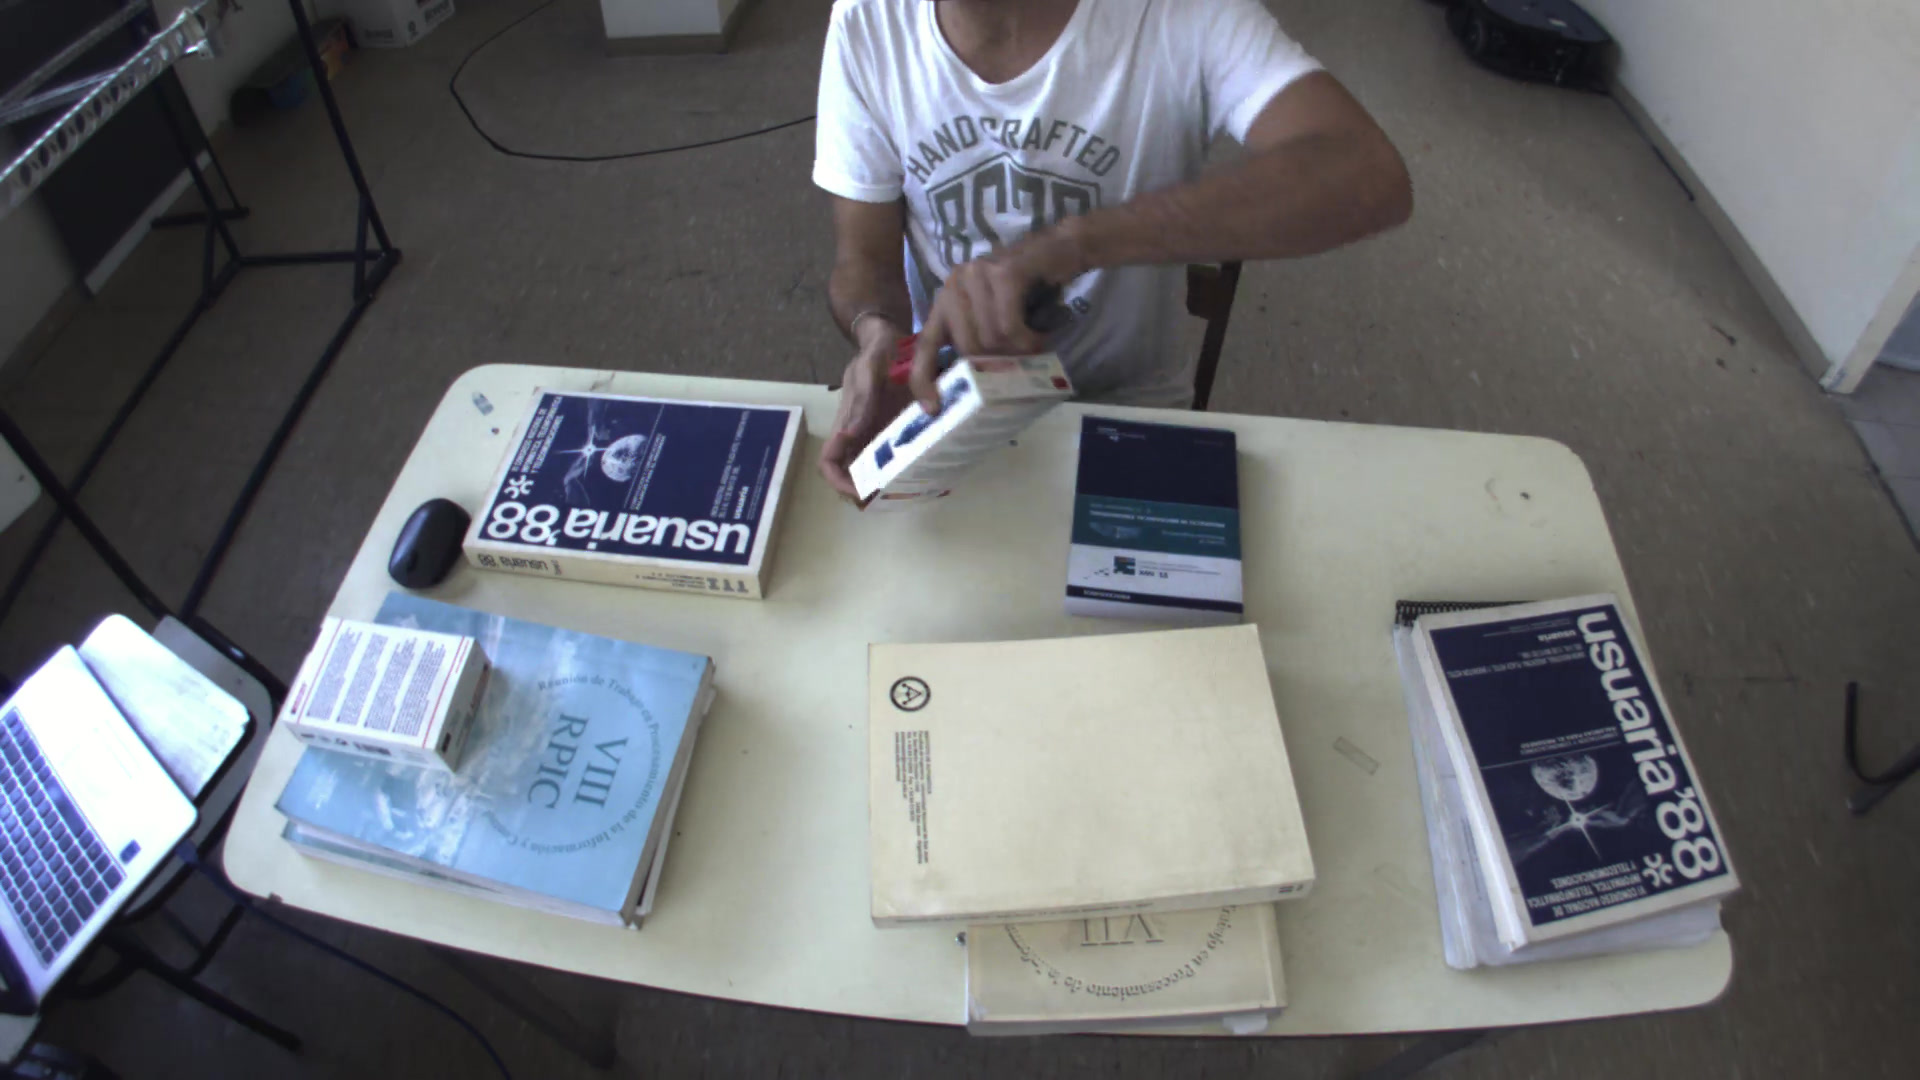hand: (803, 320, 924, 506), (905, 236, 1056, 372)
